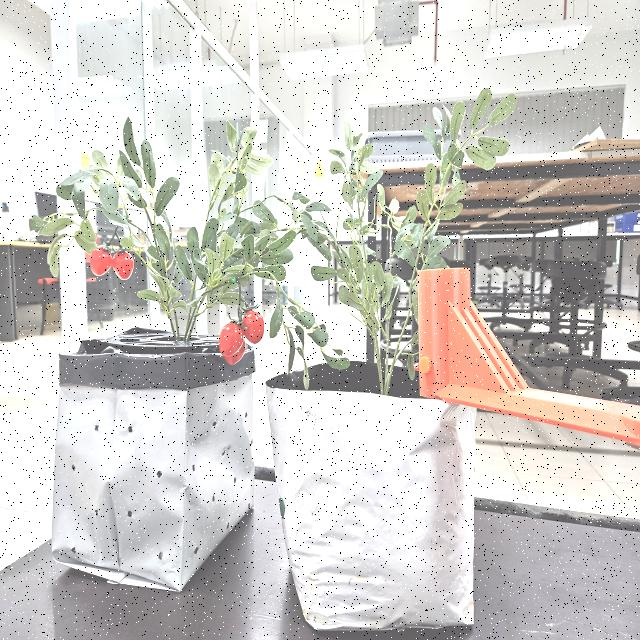EndEffector: (418, 270, 640, 451)
Soilbag: (267, 389, 478, 636), (50, 352, 255, 594)
Tomato: (216, 310, 267, 367), (85, 247, 136, 284)
plant: (28, 119, 352, 374), (291, 89, 519, 399)
